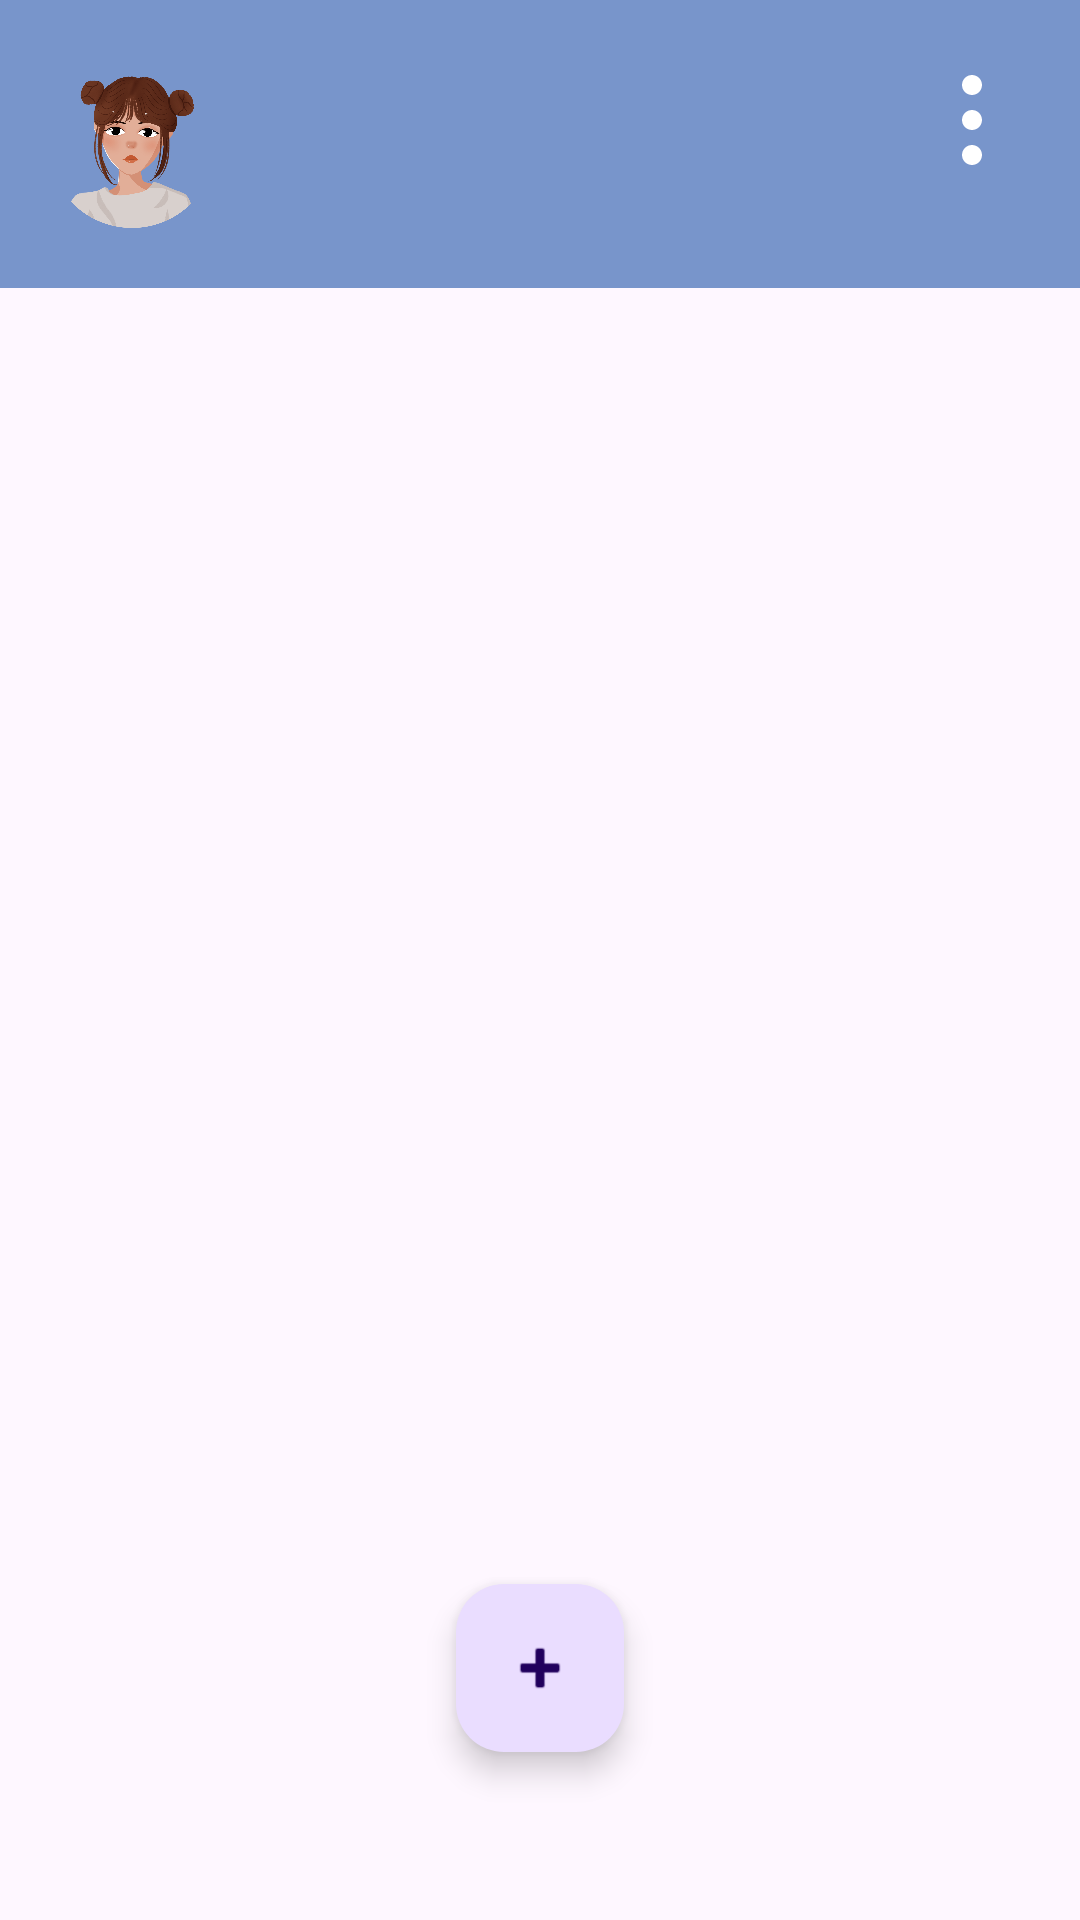

Icon click points for this 1080 x 1920 phone screenshot, format [x,y]:
add: [540,1668]
profile: [132,152]
titiktiga: [972,120]
